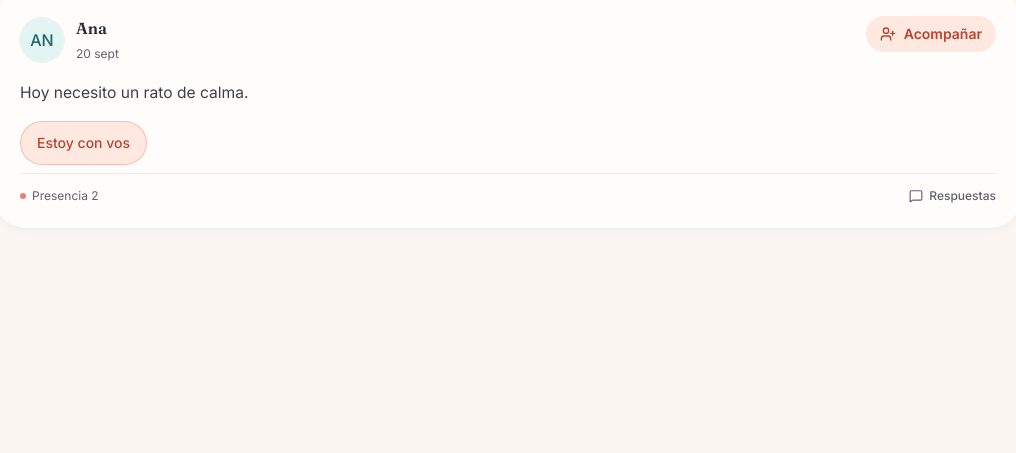
Test: PostCard responses › removes the active response when it is chosen again
What coordinates should you click on to do the following:
click the button "Estoy con vos"
I would click on:
 (84, 143)
Its box is [20,121,147,165].
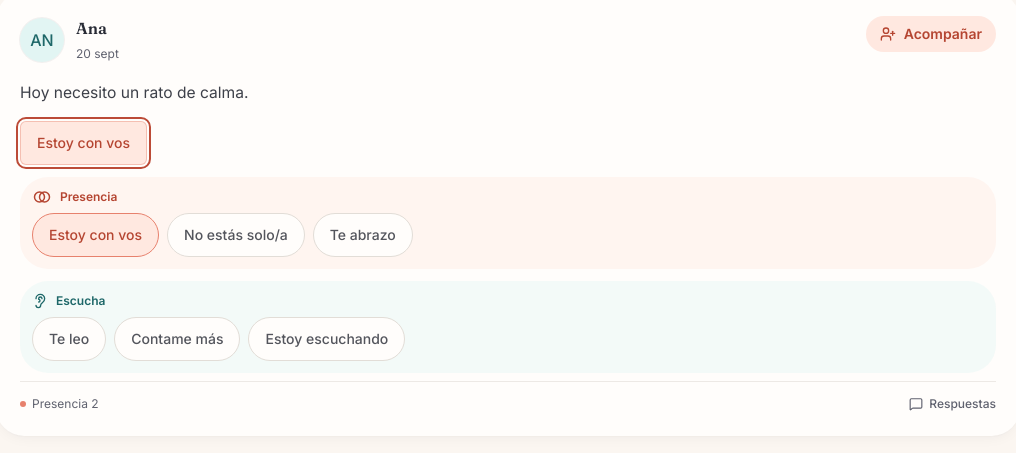
What coordinates should you click on to do the following:
click the 2nd button "Estoy con vos"
I would click on:
 (96, 235)
Its box is [32,213,159,257].
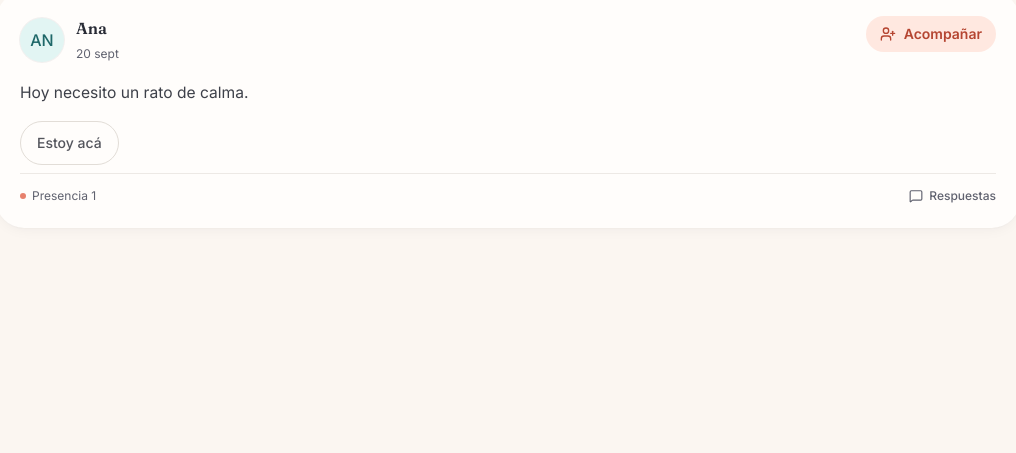
Expected: the button "Estoy acá" is shown, [20,121,119,165]
Expected: the text "Presencia 1" is shown, [20,188,96,204]
